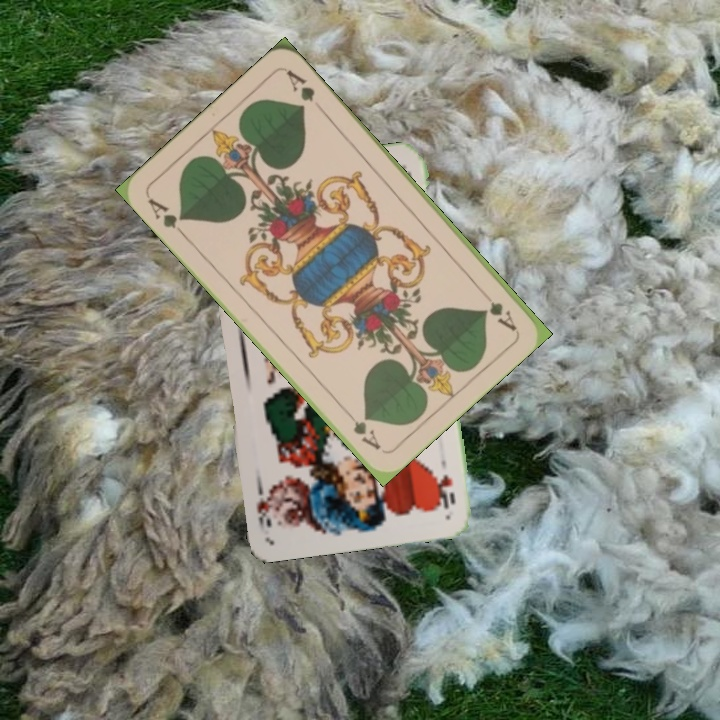GA: (474, 284, 520, 333), (144, 194, 189, 240)
HO: (433, 454, 458, 511)
